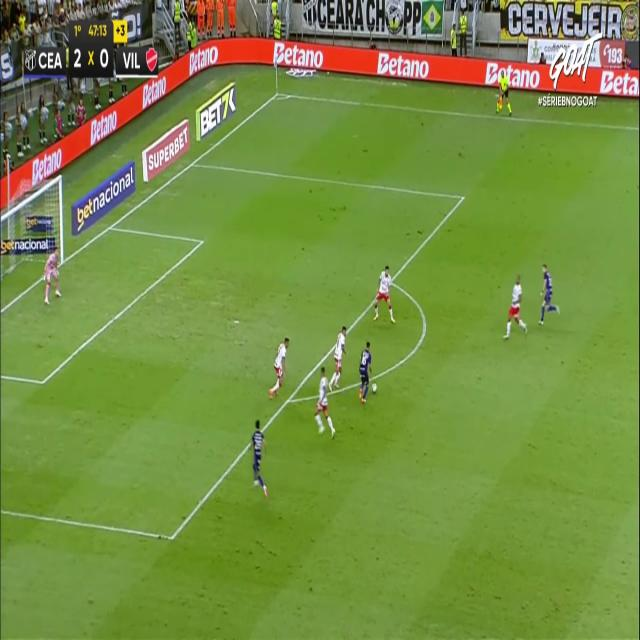ball: (372, 383, 376, 391)
goalkeeper: (42, 245, 62, 304)
player: (502, 274, 528, 339), (314, 365, 336, 439), (373, 264, 396, 324), (268, 336, 290, 398), (538, 263, 560, 325), (251, 419, 267, 499), (328, 325, 346, 391), (358, 341, 372, 404)
referee: (496, 68, 512, 116)
